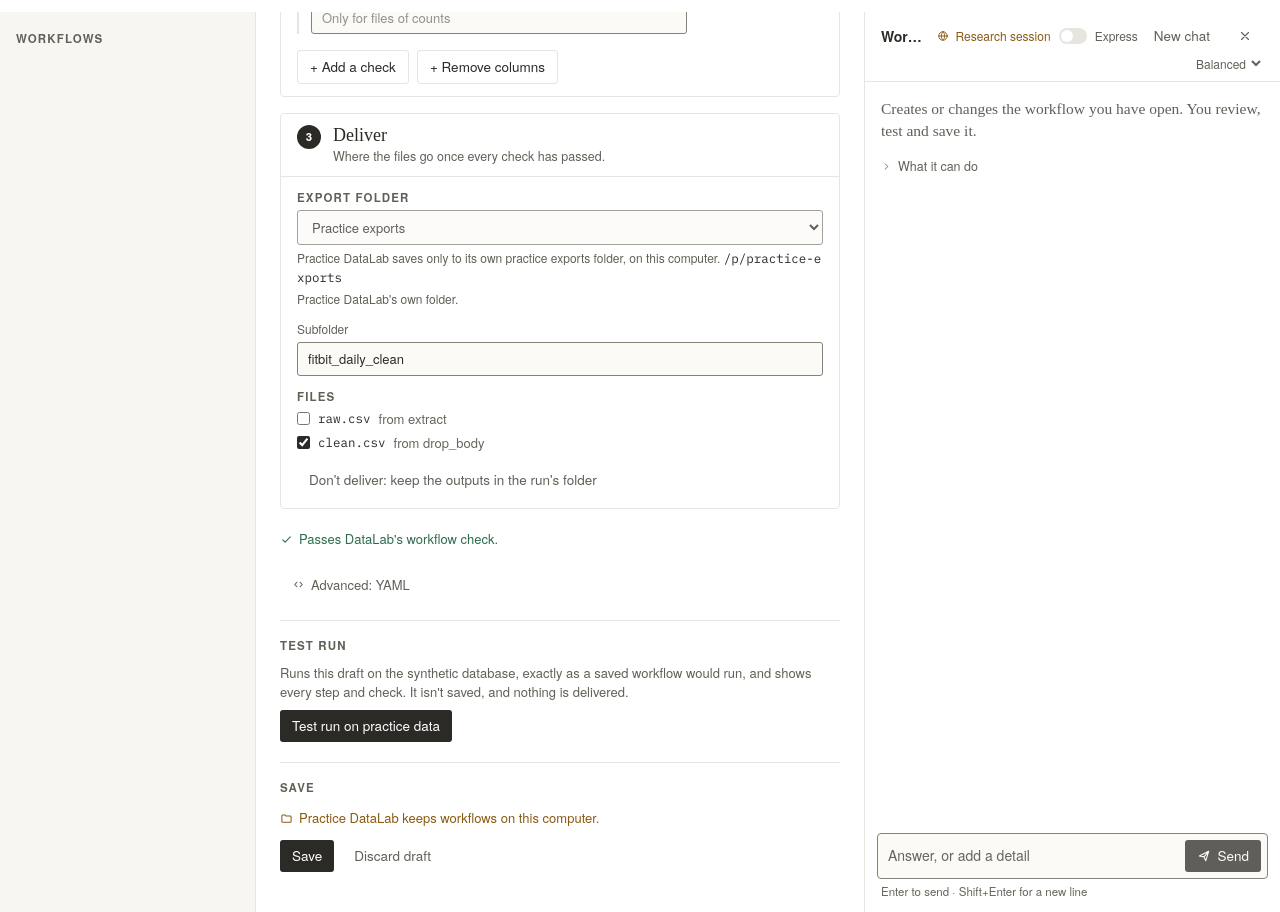
test-runs the draft on practice data, then saves it locally
(page scrolled)
expect the text "Passes DataLab's workflow check." is shown: met, box [280,529,498,548]
Click the button "Test run on practice data": click(366, 726) [280,710,452,742]
(page scrolled)
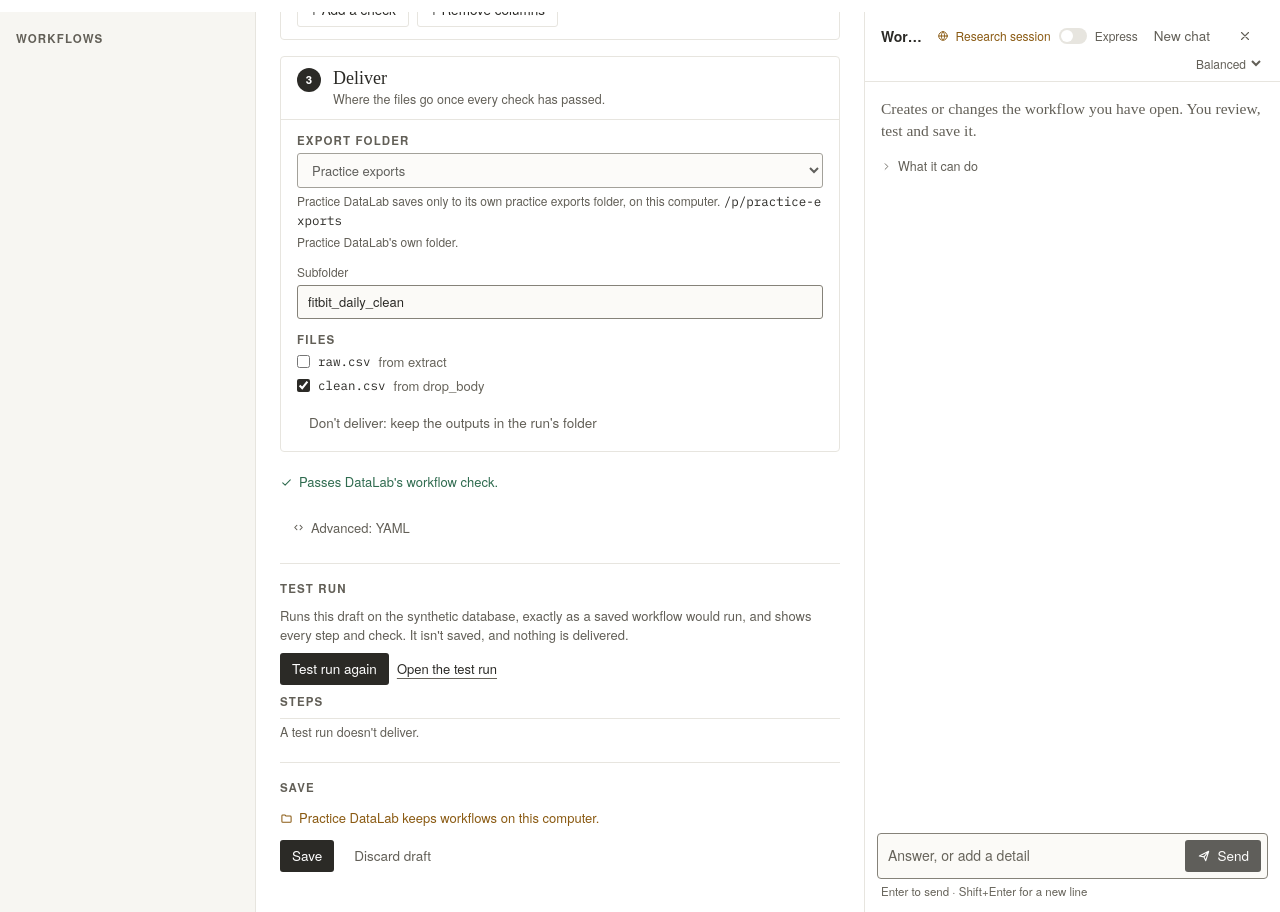
expect the text "A test run doesn't deliver." is shown: met, box [280,723,419,741]
Click the button "Save": click(307, 856) [280,840,334,872]
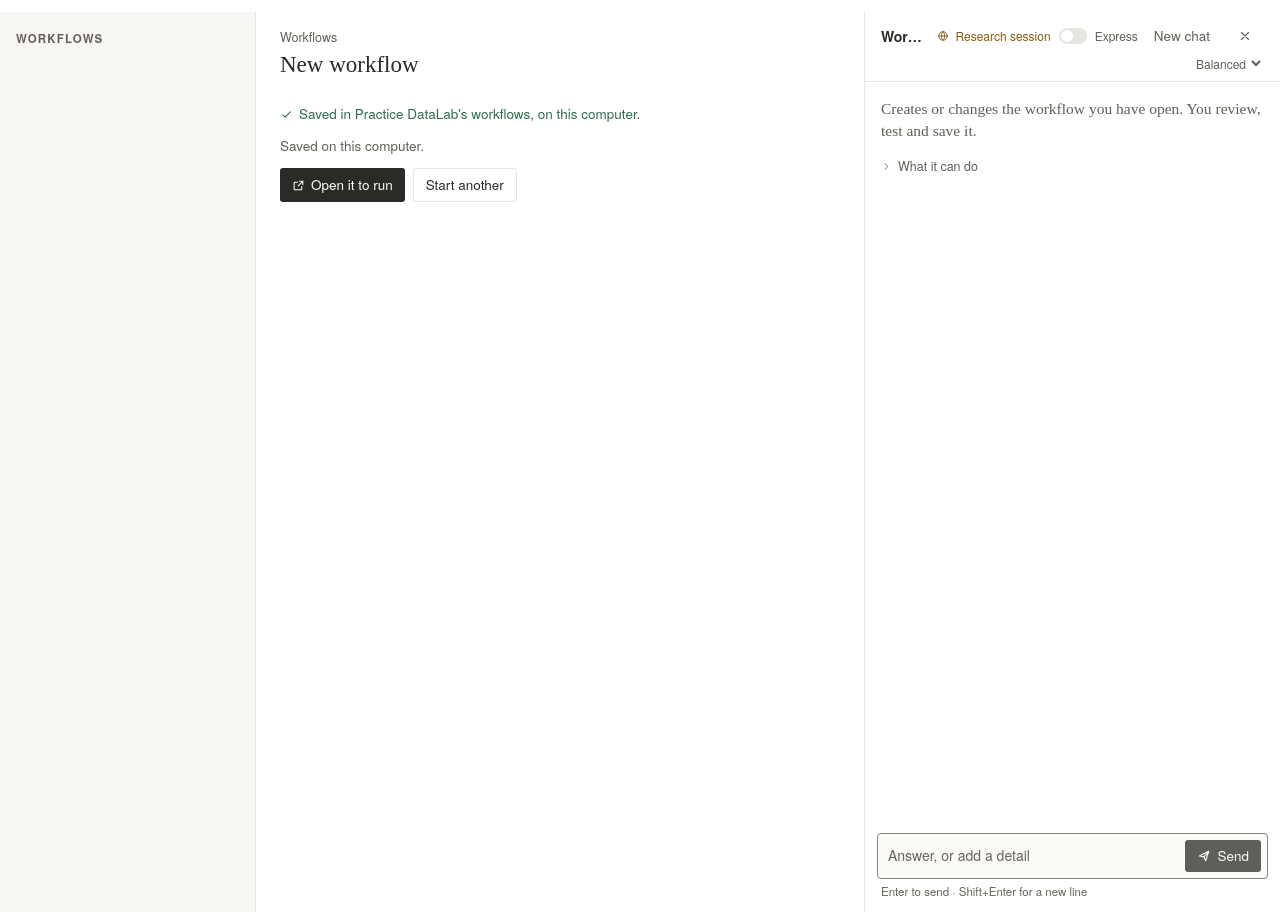
expect the text "Saved in Practice DataLab's workflows, on this computer." is shown: met, box [280,104,640,122]
